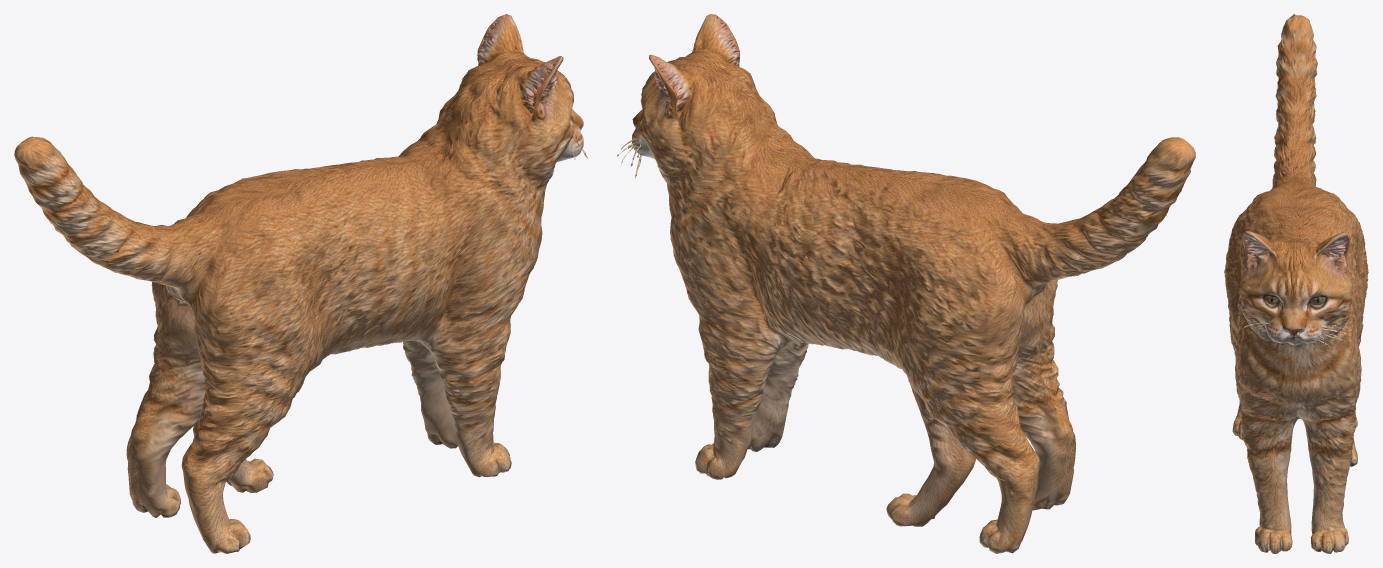
The model's file is GOCCHAN.glb.
The picture shows the model from 3 angles, left to right: view 1: azimuth 30°, elevation 25°; view 2: azimuth 150°, elevation 25°; view 3: azimuth 270°, elevation 25°; orthographic projection. The views are drawn at different scales.
Visible parts, largest first — view 1: tripo_node_cc211295-39ee-4887-b905-896da6d08c67; view 2: tripo_node_cc211295-39ee-4887-b905-896da6d08c67; view 3: tripo_node_cc211295-39ee-4887-b905-896da6d08c67.
Boxes of the visible parts, <box> form: tripo_node_cc211295-39ee-4887-b905-896da6d08c67: <box>14,14,588,553</box>; tripo_node_cc211295-39ee-4887-b905-896da6d08c67: <box>617,14,1195,553</box>; tripo_node_cc211295-39ee-4887-b905-896da6d08c67: <box>1224,14,1368,553</box>.
Size of the model in its own units: 1.37 by 0.998 by 0.3683.
Materials: 1 (1 with a texture image).
